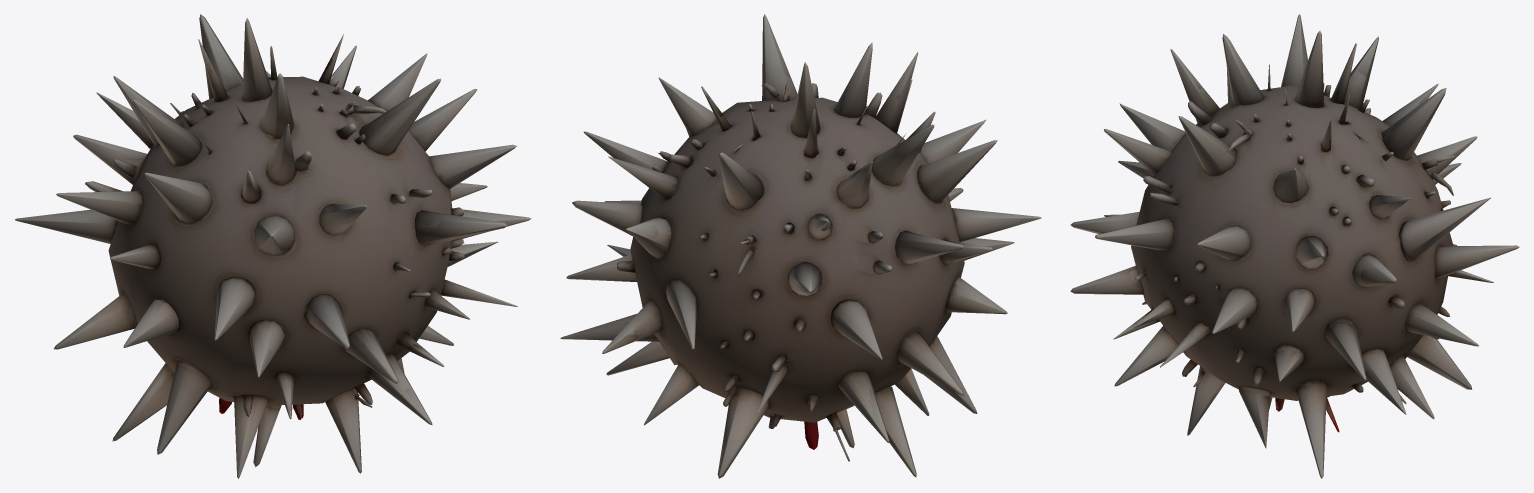
3 views of the same model, side by side, from view 1: azimuth 30°, elevation 25°; view 2: azimuth 150°, elevation 25°; view 3: azimuth 270°, elevation 25° (orthographic). The views are drawn at different scales.
Parts seen in each view (by area): view 1: tripo_node_9e5ea3fd; view 2: tripo_node_9e5ea3fd; view 3: tripo_node_9e5ea3fd.
Boxes of the visible parts, x1,y1,x2,y2 form: tripo_node_9e5ea3fd: (15, 14, 531, 478); tripo_node_9e5ea3fd: (560, 14, 1041, 478); tripo_node_9e5ea3fd: (1070, 14, 1519, 478).
Bounding box in the file's own units: 0.9863 × 0.9668 × 0.998.
1 material, 1 textured.
